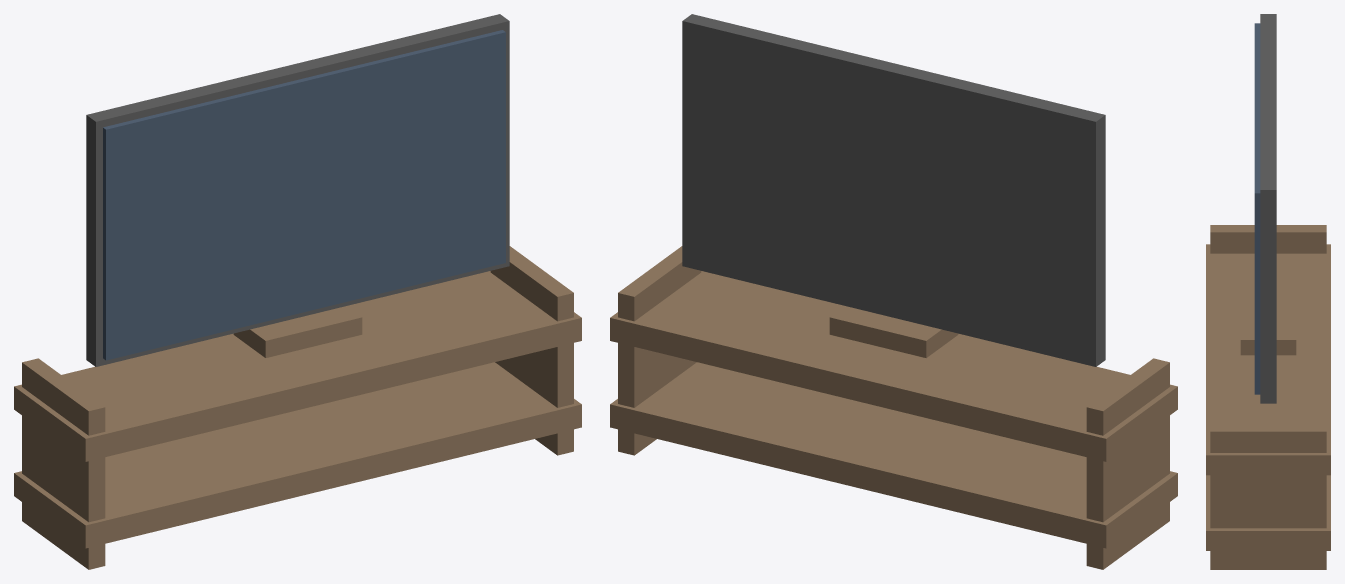
File: tv_stand.glb
3 renders of one model, left to right at view 1: azimuth 30°, elevation 25°; view 2: azimuth 150°, elevation 25°; view 3: azimuth 270°, elevation 25°, orthographic. The views are drawn at different scales.
Visible parts, largest first — view 1: root; view 2: root; view 3: root.
Boxes of the visible parts, <box> form: root: <box>14,14,581,569</box>; root: <box>610,14,1177,569</box>; root: <box>1206,14,1330,569</box>.
Size of the model in its own units: 1.8 by 1.45 by 0.45.
